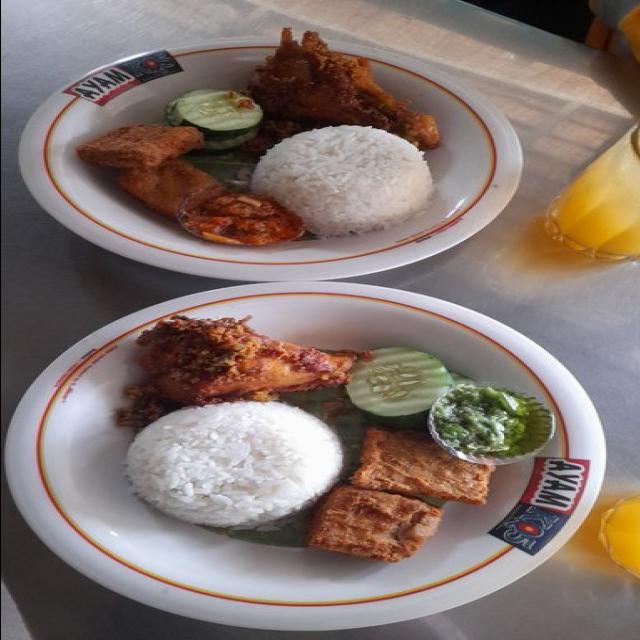ayam goreng: (244, 28, 439, 152), (137, 314, 358, 407)
nasi: (122, 398, 358, 532), (241, 124, 433, 237)
tahu goreng: (341, 426, 493, 508), (302, 482, 439, 562)
